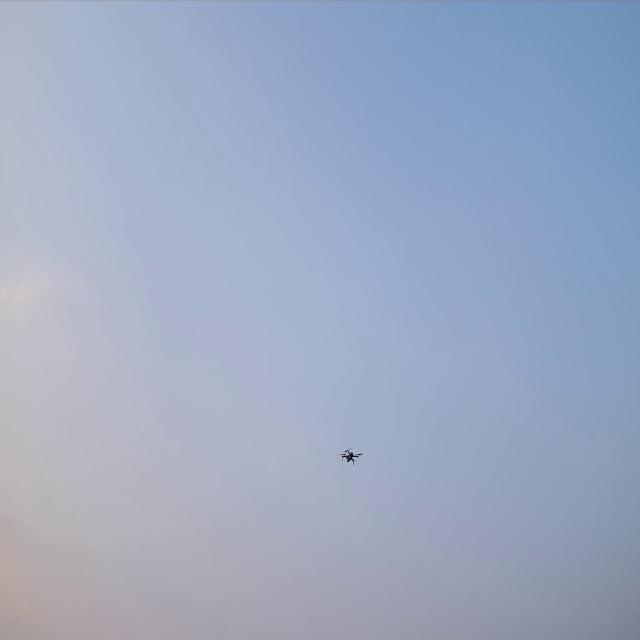UAV: (337, 444, 364, 466)
